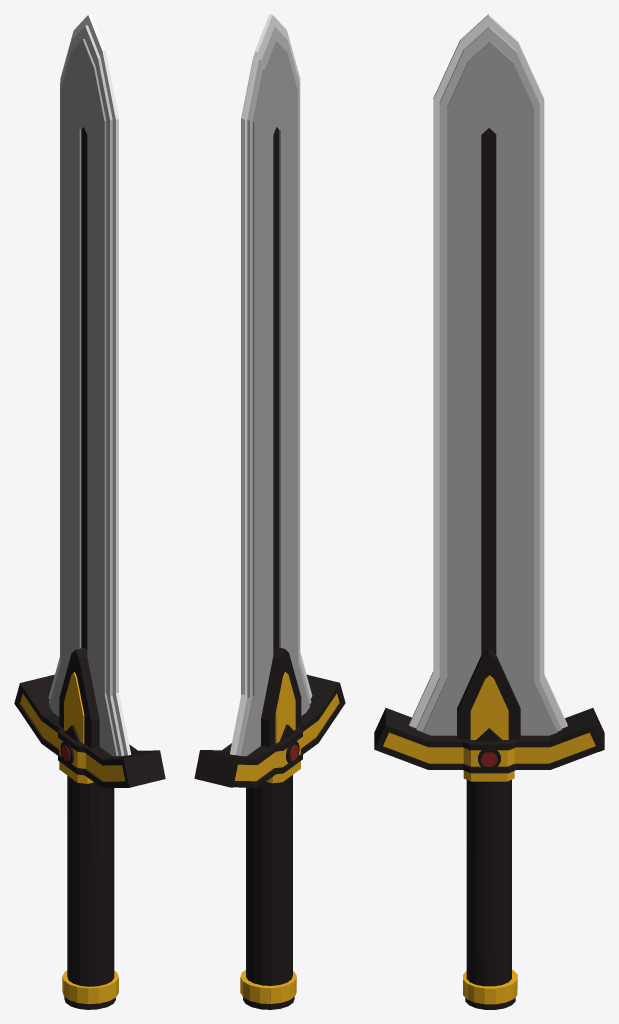
3 renders of one model, left to right at view 1: azimuth 30°, elevation 25°; view 2: azimuth 150°, elevation 25°; view 3: azimuth 270°, elevation 25°, orthographic.
Parts seen in each view (by area): view 1: 8f3ce9a2-8578-b7d1-791d-031675006da5, 253193e7-7b67-6bff-cbad-ee6eddeda207, f5dd048e-c38c-d63c-e2af-5d75b7c9e6ec, 6232130f-74d1-8daa-978f-148ad50a4111, 8589adea-185c-153a-cb66-5e17ea45ea72, 70a75bc4-3394-74b8-5c5b-ce08b4eca5e6, 979b2d09-837e-3f3f-da50-8deea7248087, c3106c9b-88a8-3d5f-63c5-6be896c22e01, 05244262-3b51-8628-df56-0b9769fd05b6, feb065e9-9744-640b-5557-c03c2db06e76, 0b1d2e00-1718-1661-7316-192a849f36a7, e0f33664-3430-9c26-8efc-00fbb0b207bb (+17 smaller); view 2: 253193e7-7b67-6bff-cbad-ee6eddeda207, 8f3ce9a2-8578-b7d1-791d-031675006da5, f5dd048e-c38c-d63c-e2af-5d75b7c9e6ec, 6232130f-74d1-8daa-978f-148ad50a4111, 8589adea-185c-153a-cb66-5e17ea45ea72, 59312bf8-58c6-e7dd-f43d-d799f06fd62e, 0f08793b-ad49-c950-3f39-fb5bd8f02421, fd9c31a1-77d4-dea6-c315-1f0e2fb1cf42, 786c295f-5f02-e271-2177-dd583e56f315, 84312f91-0362-82b0-7a54-4bdfea36fdd5, 908c9338-9eab-4365-43f3-c8f2929551be, 0b21834c-570c-86fd-a24f-e0f98a68925b (+16 smaller); view 3: 253193e7-7b67-6bff-cbad-ee6eddeda207, 8f3ce9a2-8578-b7d1-791d-031675006da5, f5dd048e-c38c-d63c-e2af-5d75b7c9e6ec, 8589adea-185c-153a-cb66-5e17ea45ea72, 6232130f-74d1-8daa-978f-148ad50a4111, e0f33664-3430-9c26-8efc-00fbb0b207bb, 24449fbe-38cf-7395-4930-50bcfd10b71f, 44ddd866-1807-8b3d-7e28-73d92b96d596, d67cc337-9131-243b-ccc8-4753b92eb0aa, 9d45c42f-4e84-a7b3-12e3-0473340f0f8b, 0ed016af-2077-9357-5149-781ca8100419, 5c0bd496-9413-c51c-2bbe-2953b2af4aa8 (+19 smaller).
Part boxes in pixels (left/top/right/bottom): 8f3ce9a2-8578-b7d1-791d-031675006da5: left=87, top=112, right=106, bottom=749; 253193e7-7b67-6bff-cbad-ee6eddeda207: left=61, top=90, right=81, bottom=689; f5dd048e-c38c-d63c-e2af-5d75b7c9e6ec: left=60, top=84, right=112, bottom=710; 6232130f-74d1-8daa-978f-148ad50a4111: left=60, top=79, right=118, bottom=693; 8589adea-185c-153a-cb66-5e17ea45ea72: left=81, top=127, right=87, bottom=651; 70a75bc4-3394-74b8-5c5b-ce08b4eca5e6: left=89, top=782, right=97, bottom=986; 979b2d09-837e-3f3f-da50-8deea7248087: left=80, top=783, right=88, bottom=986; c3106c9b-88a8-3d5f-63c5-6be896c22e01: left=98, top=786, right=106, bottom=985; 05244262-3b51-8628-df56-0b9769fd05b6: left=73, top=780, right=80, bottom=985; feb065e9-9744-640b-5557-c03c2db06e76: left=121, top=750, right=165, bottom=787; 0b1d2e00-1718-1661-7316-192a849f36a7: left=106, top=788, right=111, bottom=983; e0f33664-3430-9c26-8efc-00fbb0b207bb: left=70, top=67, right=106, bottom=121; 253193e7-7b67-6bff-cbad-ee6eddeda207: left=252, top=110, right=273, bottom=750; 8f3ce9a2-8578-b7d1-791d-031675006da5: left=279, top=91, right=297, bottom=684; f5dd048e-c38c-d63c-e2af-5d75b7c9e6ec: left=241, top=85, right=299, bottom=706; 6232130f-74d1-8daa-978f-148ad50a4111: left=241, top=79, right=300, bottom=702; 8589adea-185c-153a-cb66-5e17ea45ea72: left=273, top=127, right=279, bottom=650; 59312bf8-58c6-e7dd-f43d-d799f06fd62e: left=262, top=782, right=271, bottom=985; 0f08793b-ad49-c950-3f39-fb5bd8f02421: left=271, top=782, right=279, bottom=985; fd9c31a1-77d4-dea6-c315-1f0e2fb1cf42: left=254, top=785, right=262, bottom=985; 786c295f-5f02-e271-2177-dd583e56f315: left=280, top=779, right=286, bottom=984; 84312f91-0362-82b0-7a54-4bdfea36fdd5: left=194, top=750, right=238, bottom=787; 908c9338-9eab-4365-43f3-c8f2929551be: left=248, top=787, right=253, bottom=982; 0b21834c-570c-86fd-a24f-e0f98a68925b: left=287, top=776, right=291, bottom=982; 253193e7-7b67-6bff-cbad-ee6eddeda207: left=496, top=108, right=533, bottom=735; 8f3ce9a2-8578-b7d1-791d-031675006da5: left=447, top=108, right=481, bottom=735; f5dd048e-c38c-d63c-e2af-5d75b7c9e6ec: left=439, top=102, right=539, bottom=693; 8589adea-185c-153a-cb66-5e17ea45ea72: left=481, top=128, right=496, bottom=654; 6232130f-74d1-8daa-978f-148ad50a4111: left=433, top=100, right=544, bottom=690; e0f33664-3430-9c26-8efc-00fbb0b207bb: left=447, top=61, right=515, bottom=124; 24449fbe-38cf-7395-4930-50bcfd10b71f: left=484, top=781, right=493, bottom=986; 44ddd866-1807-8b3d-7e28-73d92b96d596: left=493, top=781, right=501, bottom=986; d67cc337-9131-243b-ccc8-4753b92eb0aa: left=476, top=781, right=484, bottom=986; 9d45c42f-4e84-a7b3-12e3-0473340f0f8b: left=510, top=676, right=557, bottom=735; 0ed016af-2077-9357-5149-781ca8100419: left=422, top=676, right=468, bottom=735; 5c0bd496-9413-c51c-2bbe-2953b2af4aa8: left=456, top=101, right=513, bottom=126.
Bounding box in the file's own units: 1.09 × 20.46 × 4.34.
4 materials, 4 textured.
